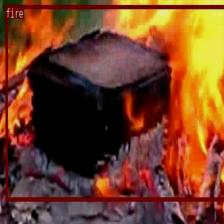fire: (5, 5, 224, 200)
